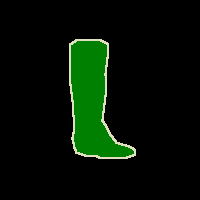shoe: (70, 40, 135, 158)
